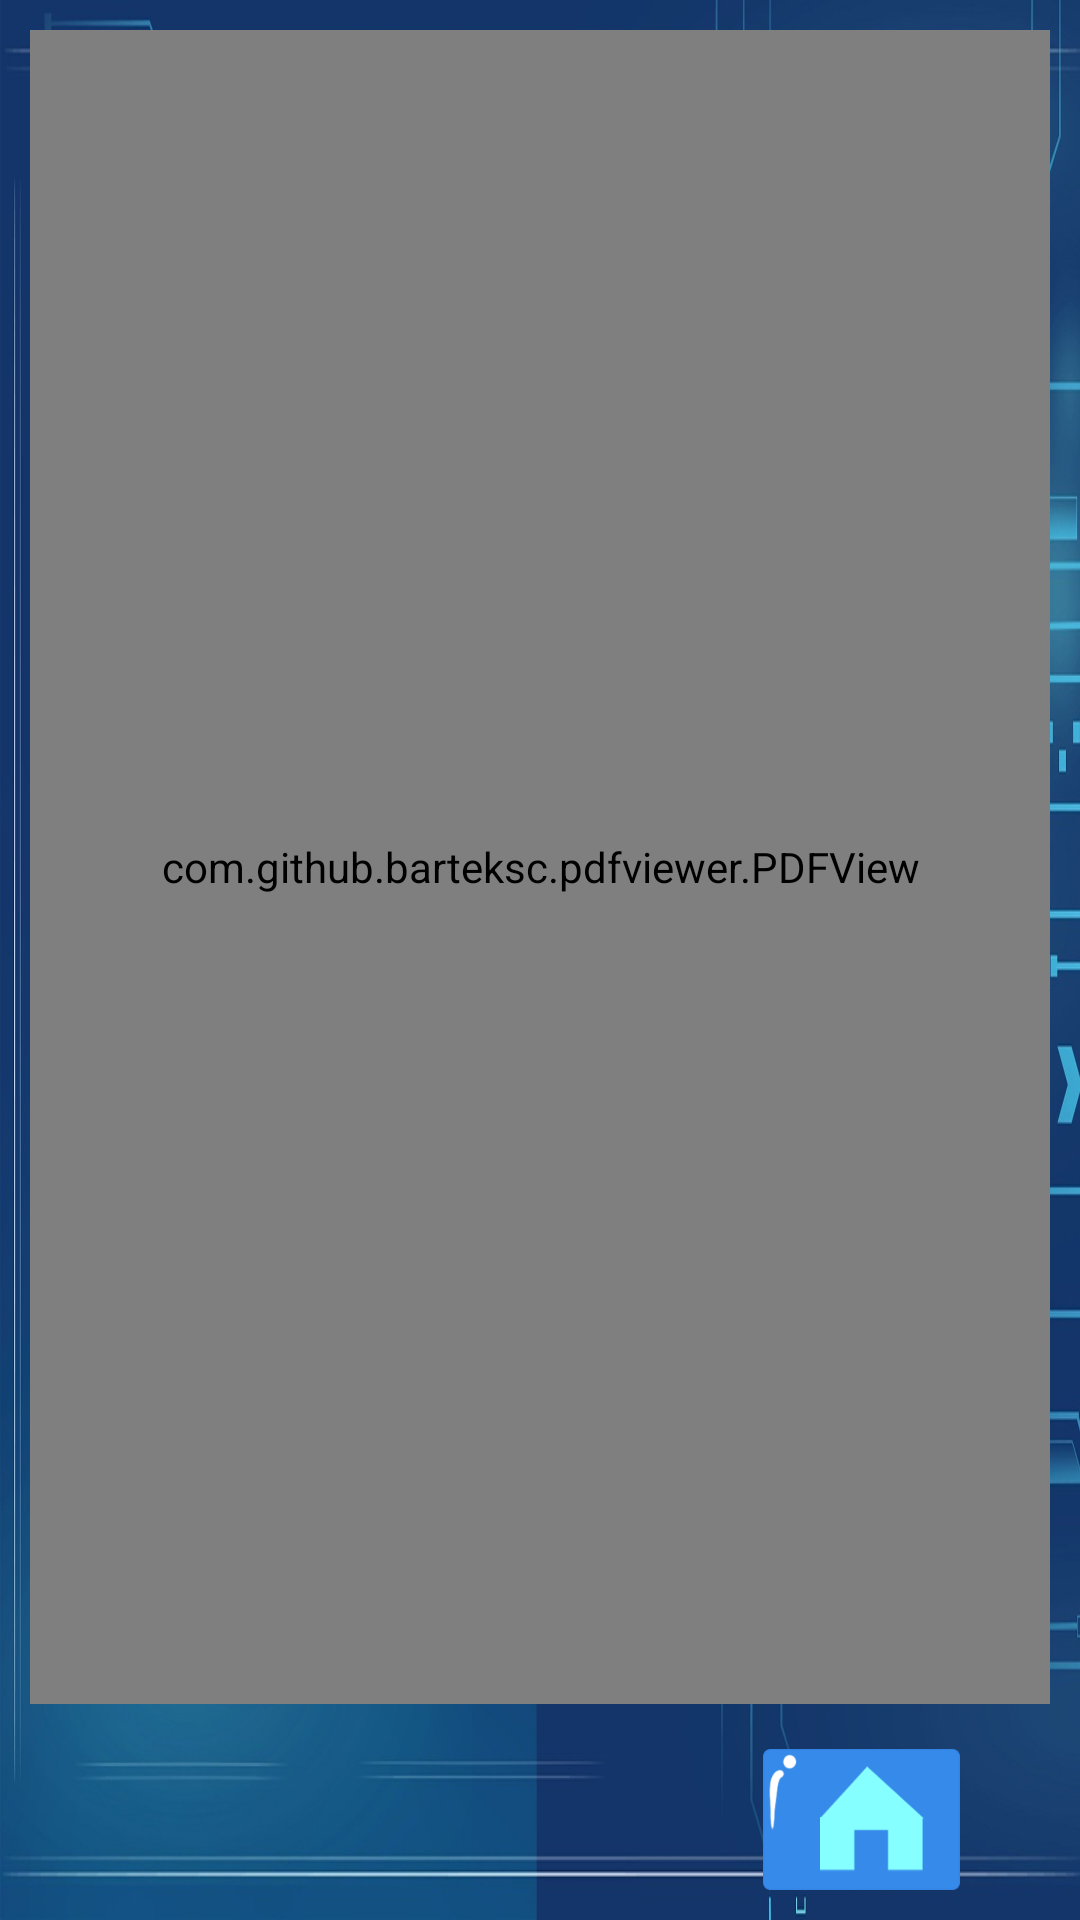

Where icons sit on this 1080px×1920px app screen, as (x1, y1, x2, y2):
home: (763, 1749, 960, 1890)
